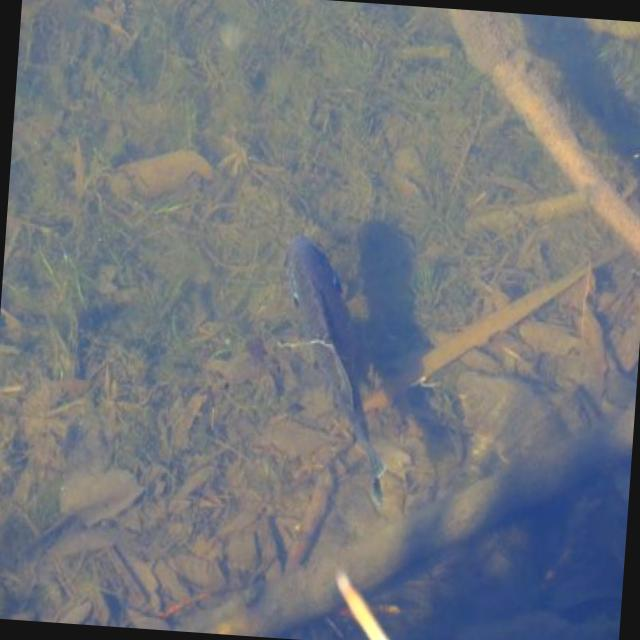Gunes Levregi: (266, 235, 408, 491)
